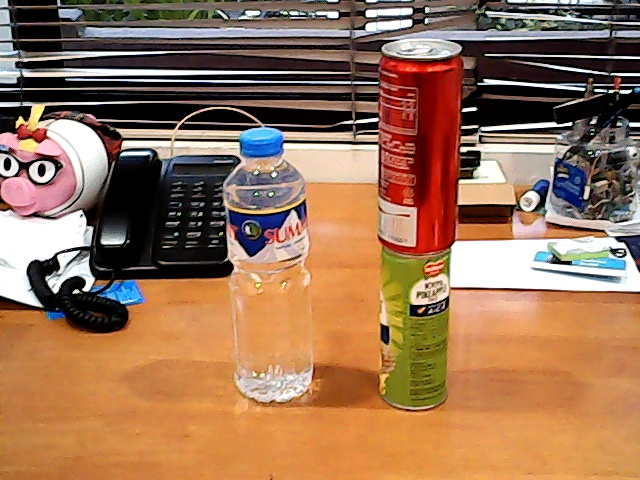Cola: (367, 38, 468, 251)
Pine Juice: (371, 242, 465, 418)
Summit Water: (217, 126, 329, 410)
